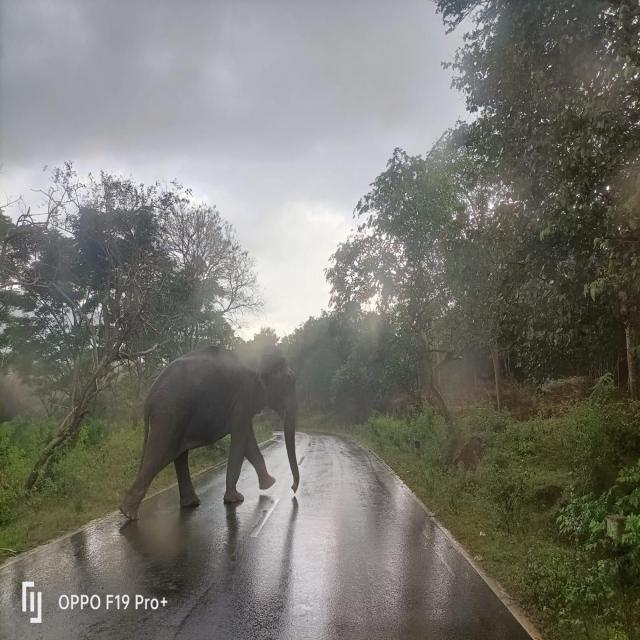Elephant: (119, 341, 299, 519)
